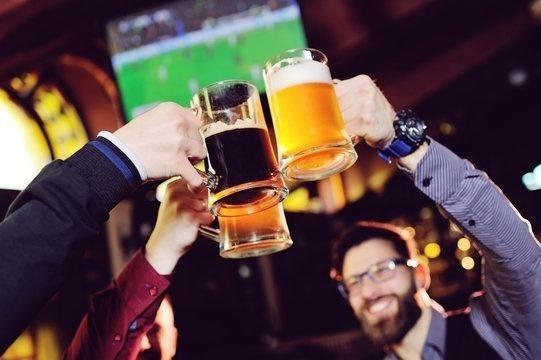glass-mug: (187, 77, 294, 260), (261, 46, 359, 182)
